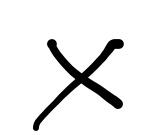mult: (30, 39, 124, 131)
